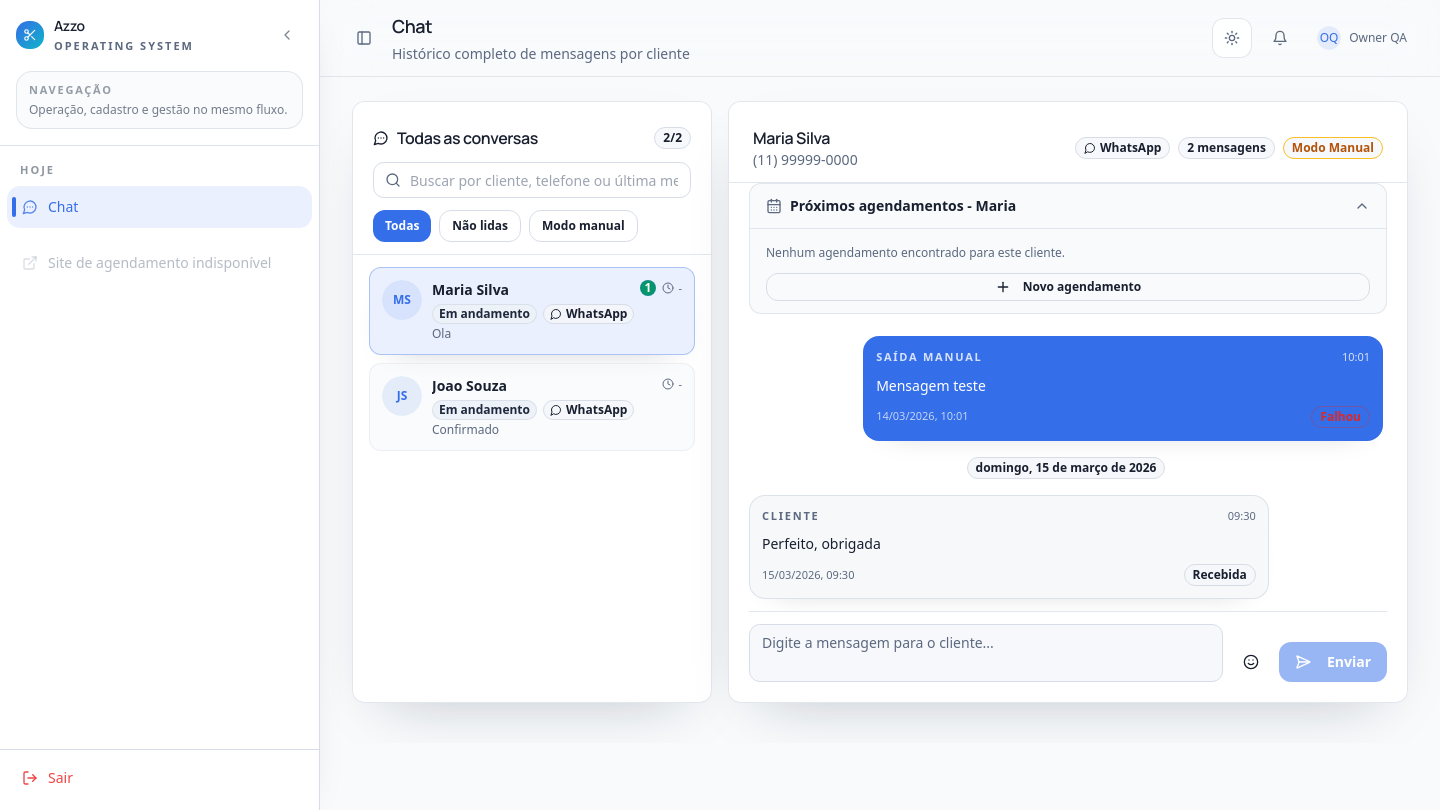
Test case: ChatPage › should filter conversations by search and quick filters
This screenshot has width=1440, height=810.
(page scrolled)
Type "Joao" into the field named "Buscar conversas" at coordinates (532, 180), box x1=373 y1=162 x2=691 y2=198
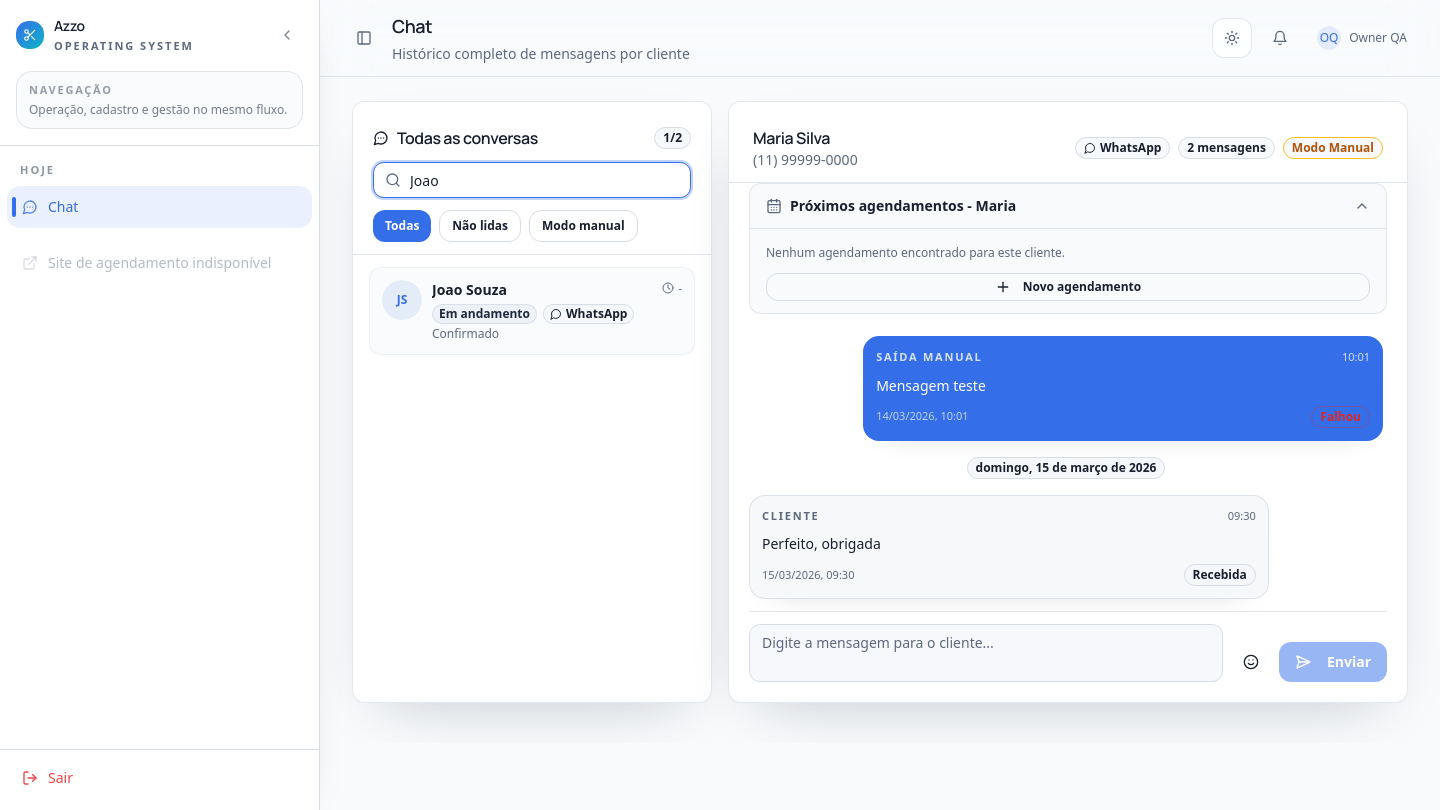
Expected: the text "Joao Souza" is shown, x1=432 y1=280 x2=507 y2=299
Clear the field named "Buscar conversas" at coordinates (532, 180), box x1=373 y1=162 x2=691 y2=198
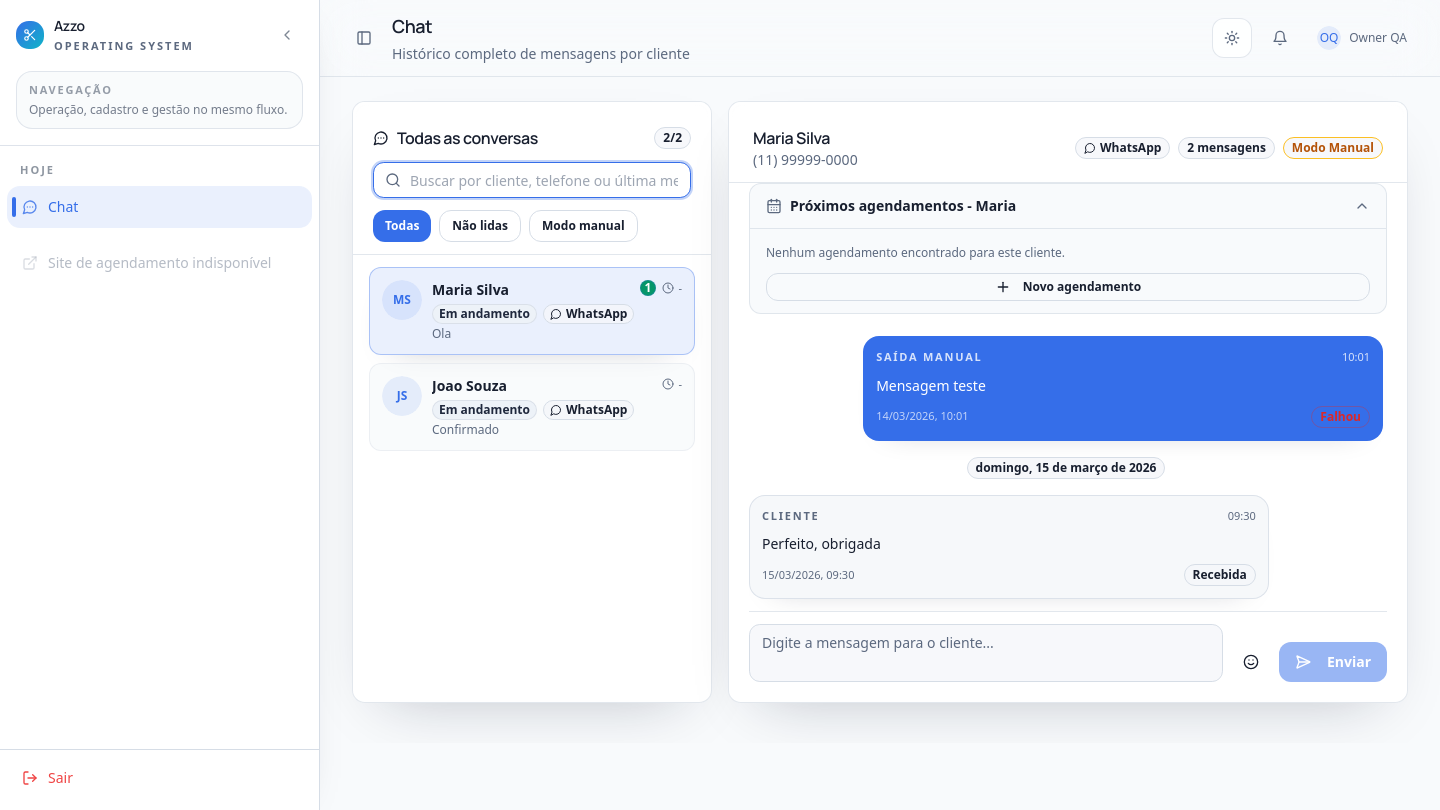
Click the button "Modo manual" at coordinates (583, 226), box x1=529 y1=210 x2=638 y2=242
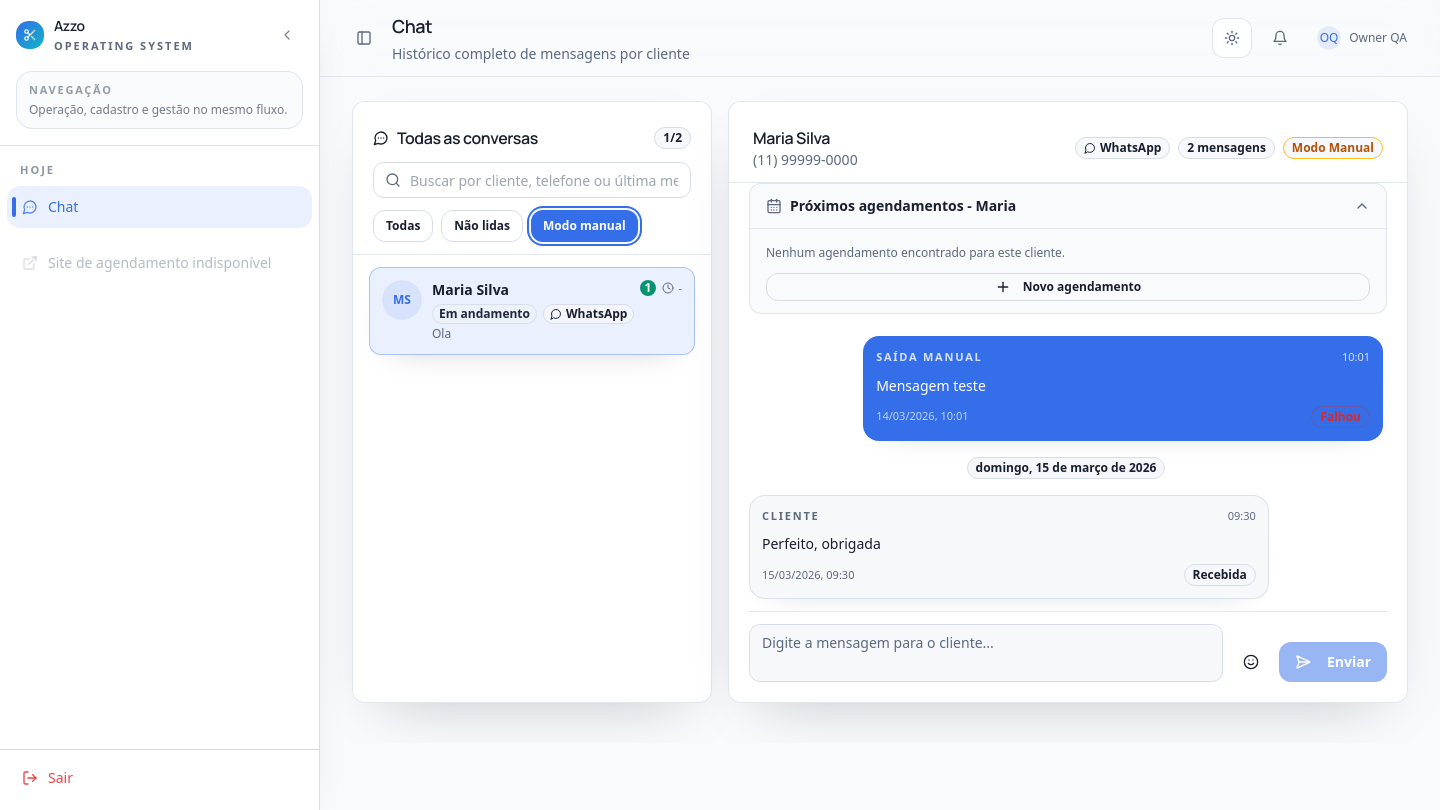
Result: the text "Maria Silva" is shown at x1=432 y1=280 x2=509 y2=299
Result: the button "Joao Souza" is gone
